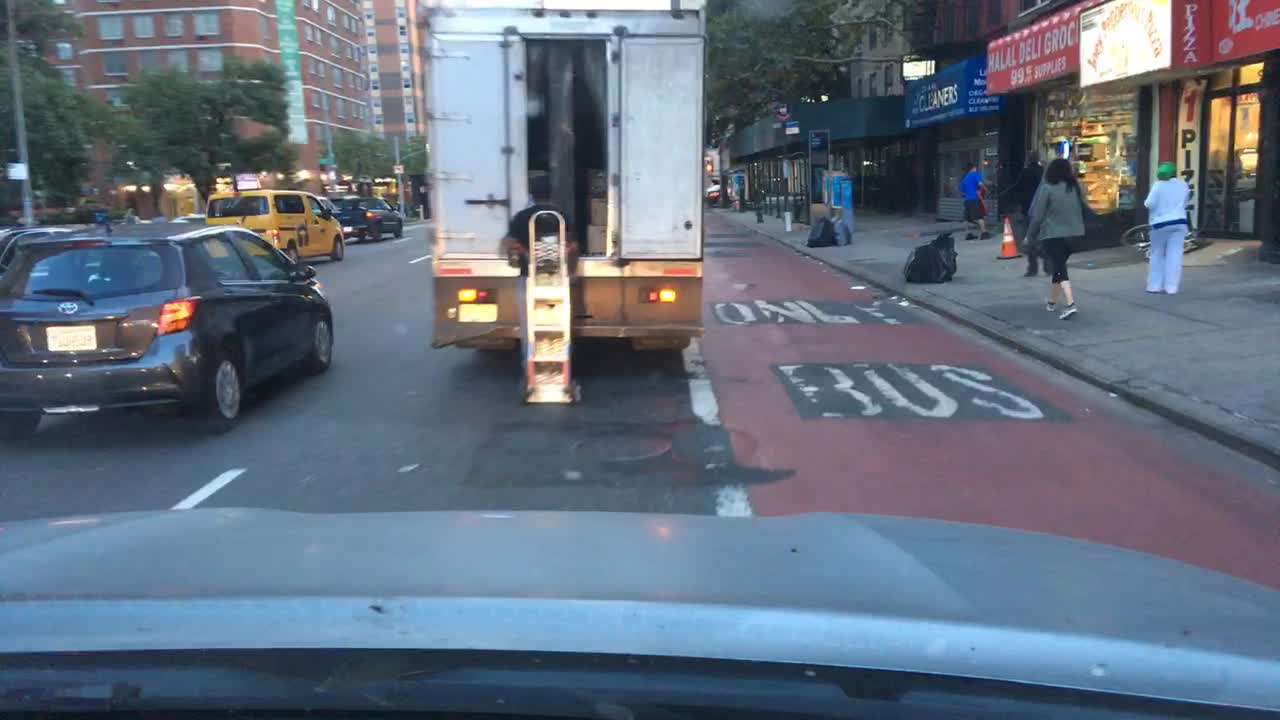car: (2, 224, 331, 439), (205, 187, 343, 259), (328, 194, 401, 240), (1, 228, 79, 269), (705, 173, 724, 205), (172, 214, 207, 226)
person: (497, 174, 579, 401), (1025, 159, 1086, 318), (1015, 147, 1057, 278), (1146, 163, 1188, 294), (959, 161, 992, 240), (72, 198, 97, 220), (121, 207, 139, 224)
traffic sign: (6, 163, 27, 179), (392, 165, 405, 176), (319, 156, 333, 165)
truck: (425, 0, 705, 404)
